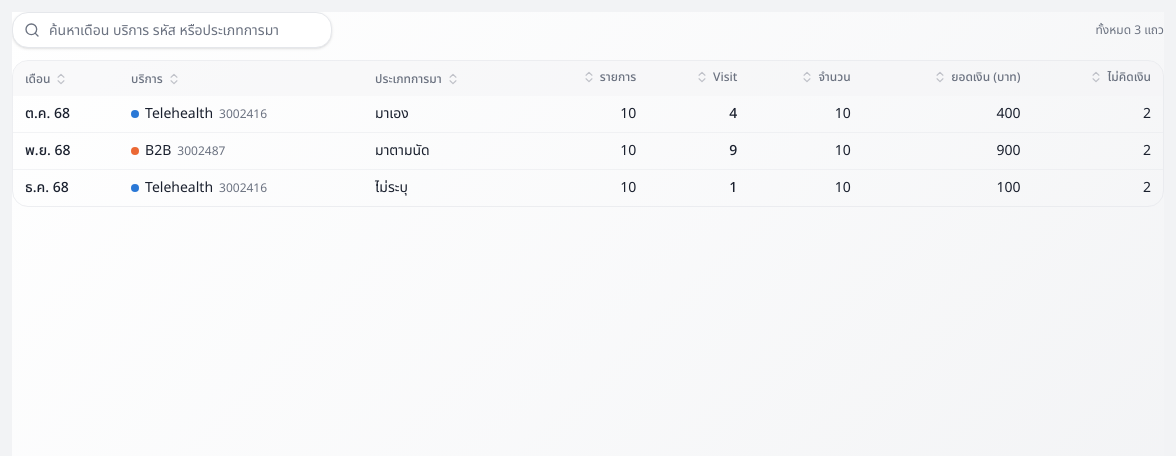
DetailDataTable › filters by service, code, visit type or month
Step 1. Type "มาตามนัด" into the search field named "ค้นหาในตารางรายละเอียด" → coordinates (172, 30), box top-left (12, 12), bottom-right (332, 48)
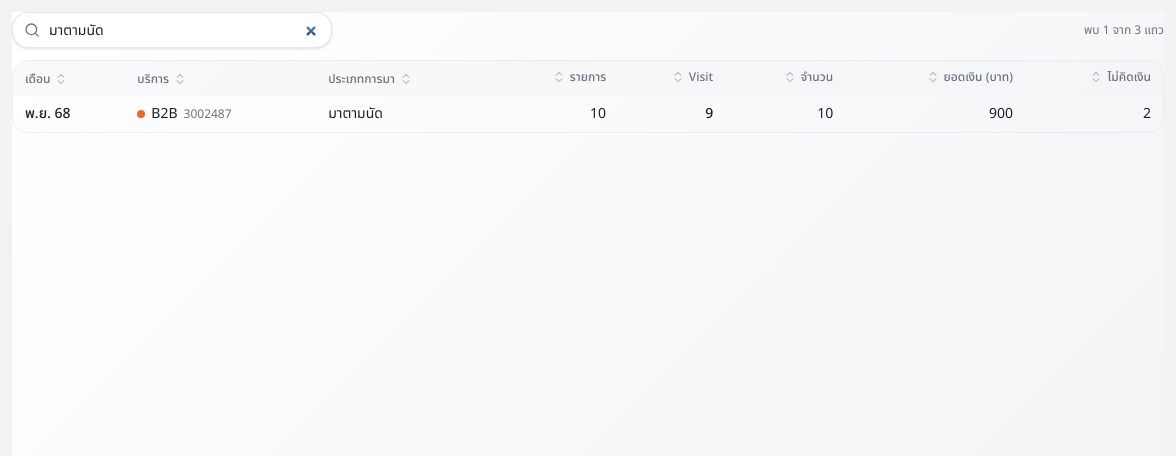
Expected: the text "B2B" is shown, top-left (151, 104), bottom-right (178, 124)
Step 2. Replace the text in the search field named "ค้นหาในตารางรายละเอียด" with "3002416" → coordinates (172, 30), box top-left (12, 12), bottom-right (332, 48)
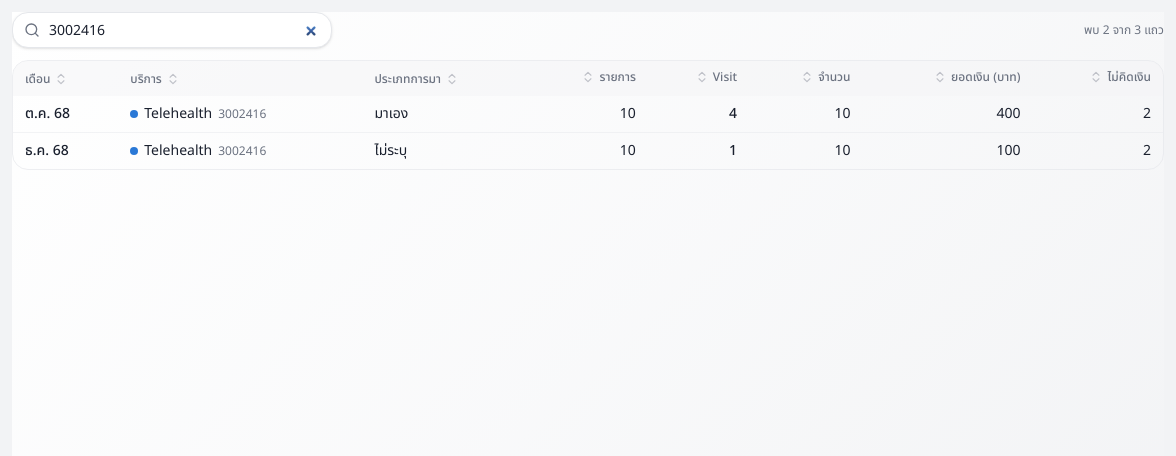
Step 3. Replace the text in the search field named "ค้นหาในตารางรายละเอียด" with "ธ.ค." → coordinates (172, 30), box top-left (12, 12), bottom-right (332, 48)
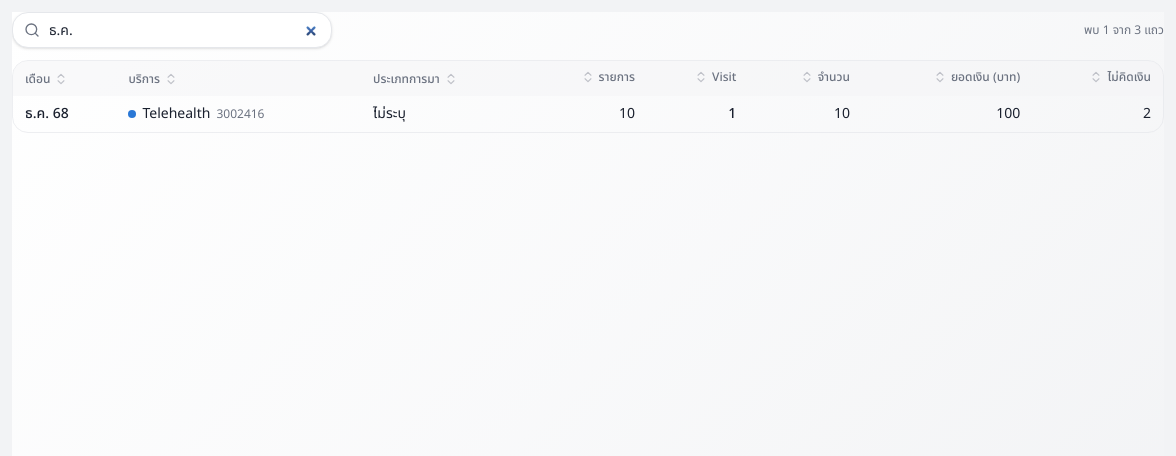
Now the text "ไม่ระบุ" is shown, box top-left (361, 96), bottom-right (527, 132)
Now the text "พบ 1 จาก 3 แถว" is shown, box top-left (1084, 22), bottom-right (1164, 38)
